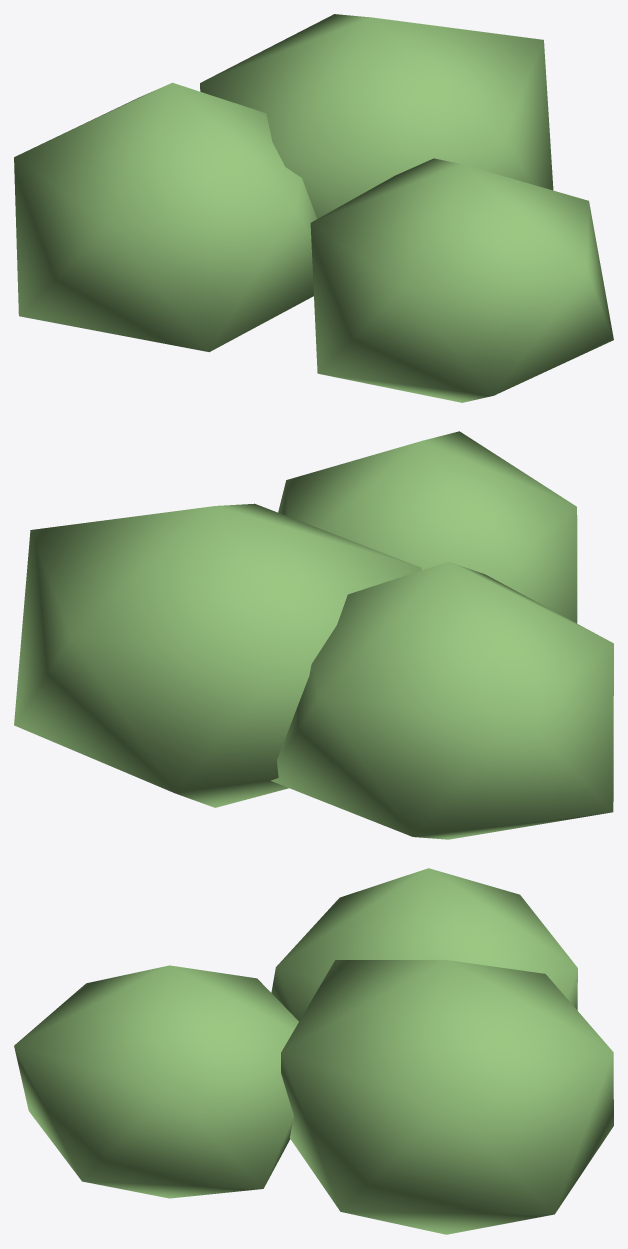
File: bush_low.glb
3 renders of one model, top to bottom at view 1: azimuth 30°, elevation 25°; view 2: azimuth 150°, elevation 25°; view 3: azimuth 270°, elevation 25°, orthographic. The views are drawn at different scales.
Visible parts, largest first — view 1: bush_low; view 2: bush_low; view 3: bush_low.
Boxes of the visible parts, left/top/right/bottom form: bush_low: left=14, top=14, right=613, bottom=402; bush_low: left=14, top=431, right=613, bottom=839; bush_low: left=14, top=868, right=613, bottom=1234.
Bounding box in the file's own units: 1.29 × 0.6499 × 1.29.
